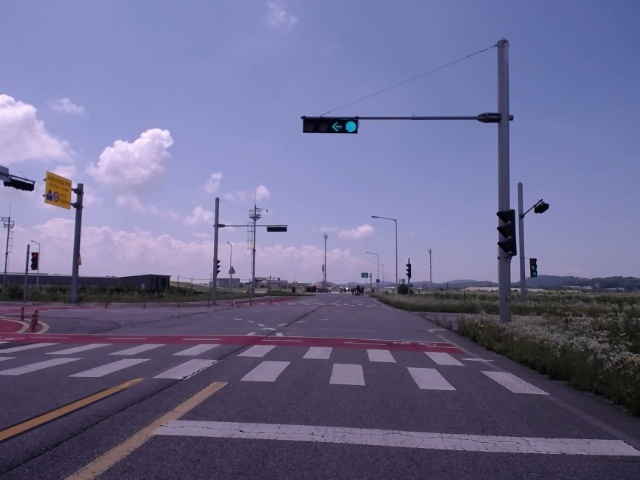all_green_4: (300, 115, 361, 137)
